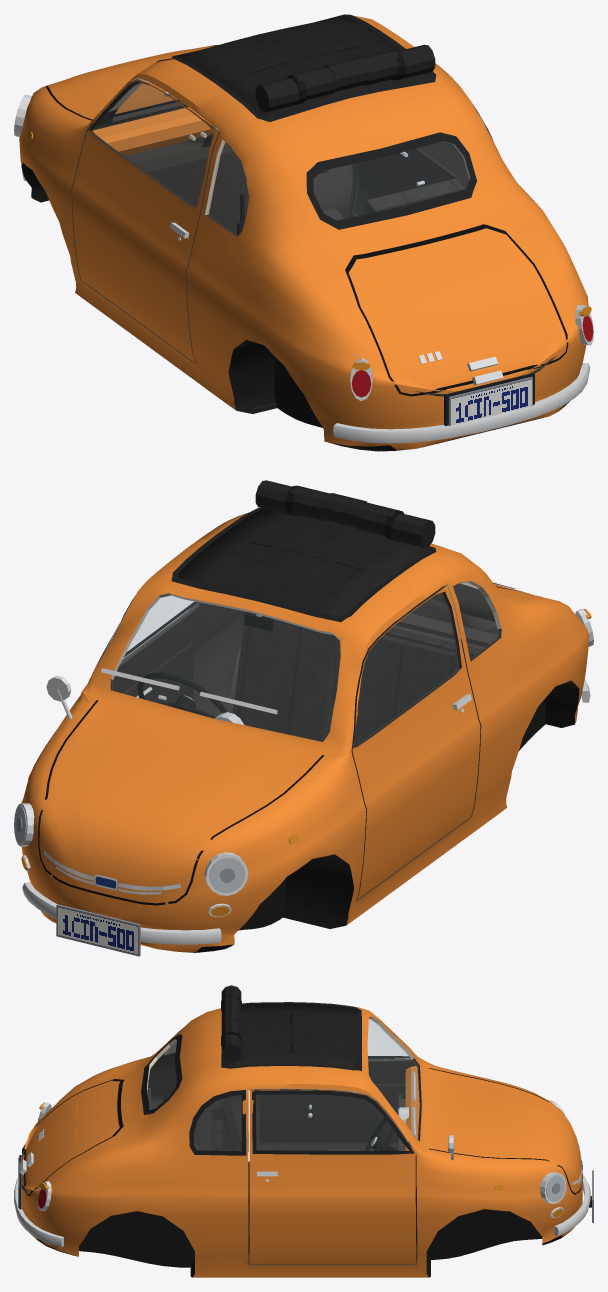
The model's file is classic_r.glb.
3 views of the same model, one above another, from view 1: azimuth 30°, elevation 25°; view 2: azimuth 150°, elevation 25°; view 3: azimuth 270°, elevation 25° (orthographic). The views are drawn at different scales.
Visible parts, largest first — view 1: Body, Door_L, Glass, Interior, Roof_Closed, Door_L_Glass, Roof_Open, Door_R, Lights_Tail; view 2: Body, Glass, Interior, Door_L, Roof_Closed, Door_L_Glass, Roof_Open, Door_R, Lights_Head, SteeringWheel; view 3: Body, Door_R, Door_L, Roof_Closed, Door_R_Glass, Glass, Interior, Roof_Open, SteeringWheel.
Boxes of the visible parts, x1,y1,x2,y2 form: Body: (14,14,593,451); Door_L: (72,79,219,363); Glass: (149,83,469,234); Interior: (93,107,464,235); Roof_Closed: (178,16,430,117); Door_L_Glass: (92,83,212,206); Roof_Open: (255,44,435,111); Door_R: (353,141,469,215); Lights_Tail: (351,315,593,397); Body: (14,508,593,956); Glass: (112,582,498,741); Interior: (182,611,497,746); Door_L: (351,585,480,900); Roof_Closed: (178,509,430,617); Door_L_Glass: (354,593,458,745); Roof_Open: (255,480,435,547); Door_R: (89,596,203,703); Lights_Head: (14,806,245,892); SteeringWheel: (137,672,227,718); Body: (14,1002,593,1277); Door_R: (249,1089,416,1264); Door_L: (251,1056,415,1150); Roof_Closed: (226,1003,357,1068); Door_R_Glass: (256,1095,408,1150); Glass: (147,1019,420,1150); Interior: (147,1066,419,1262); Roof_Open: (221,985,241,1063); SteeringWheel: (365,1109,398,1150).
Bounding box in the file's own units: 1.32 × 1.29 × 3.07.
Materials: 25 (5 with a texture image).
